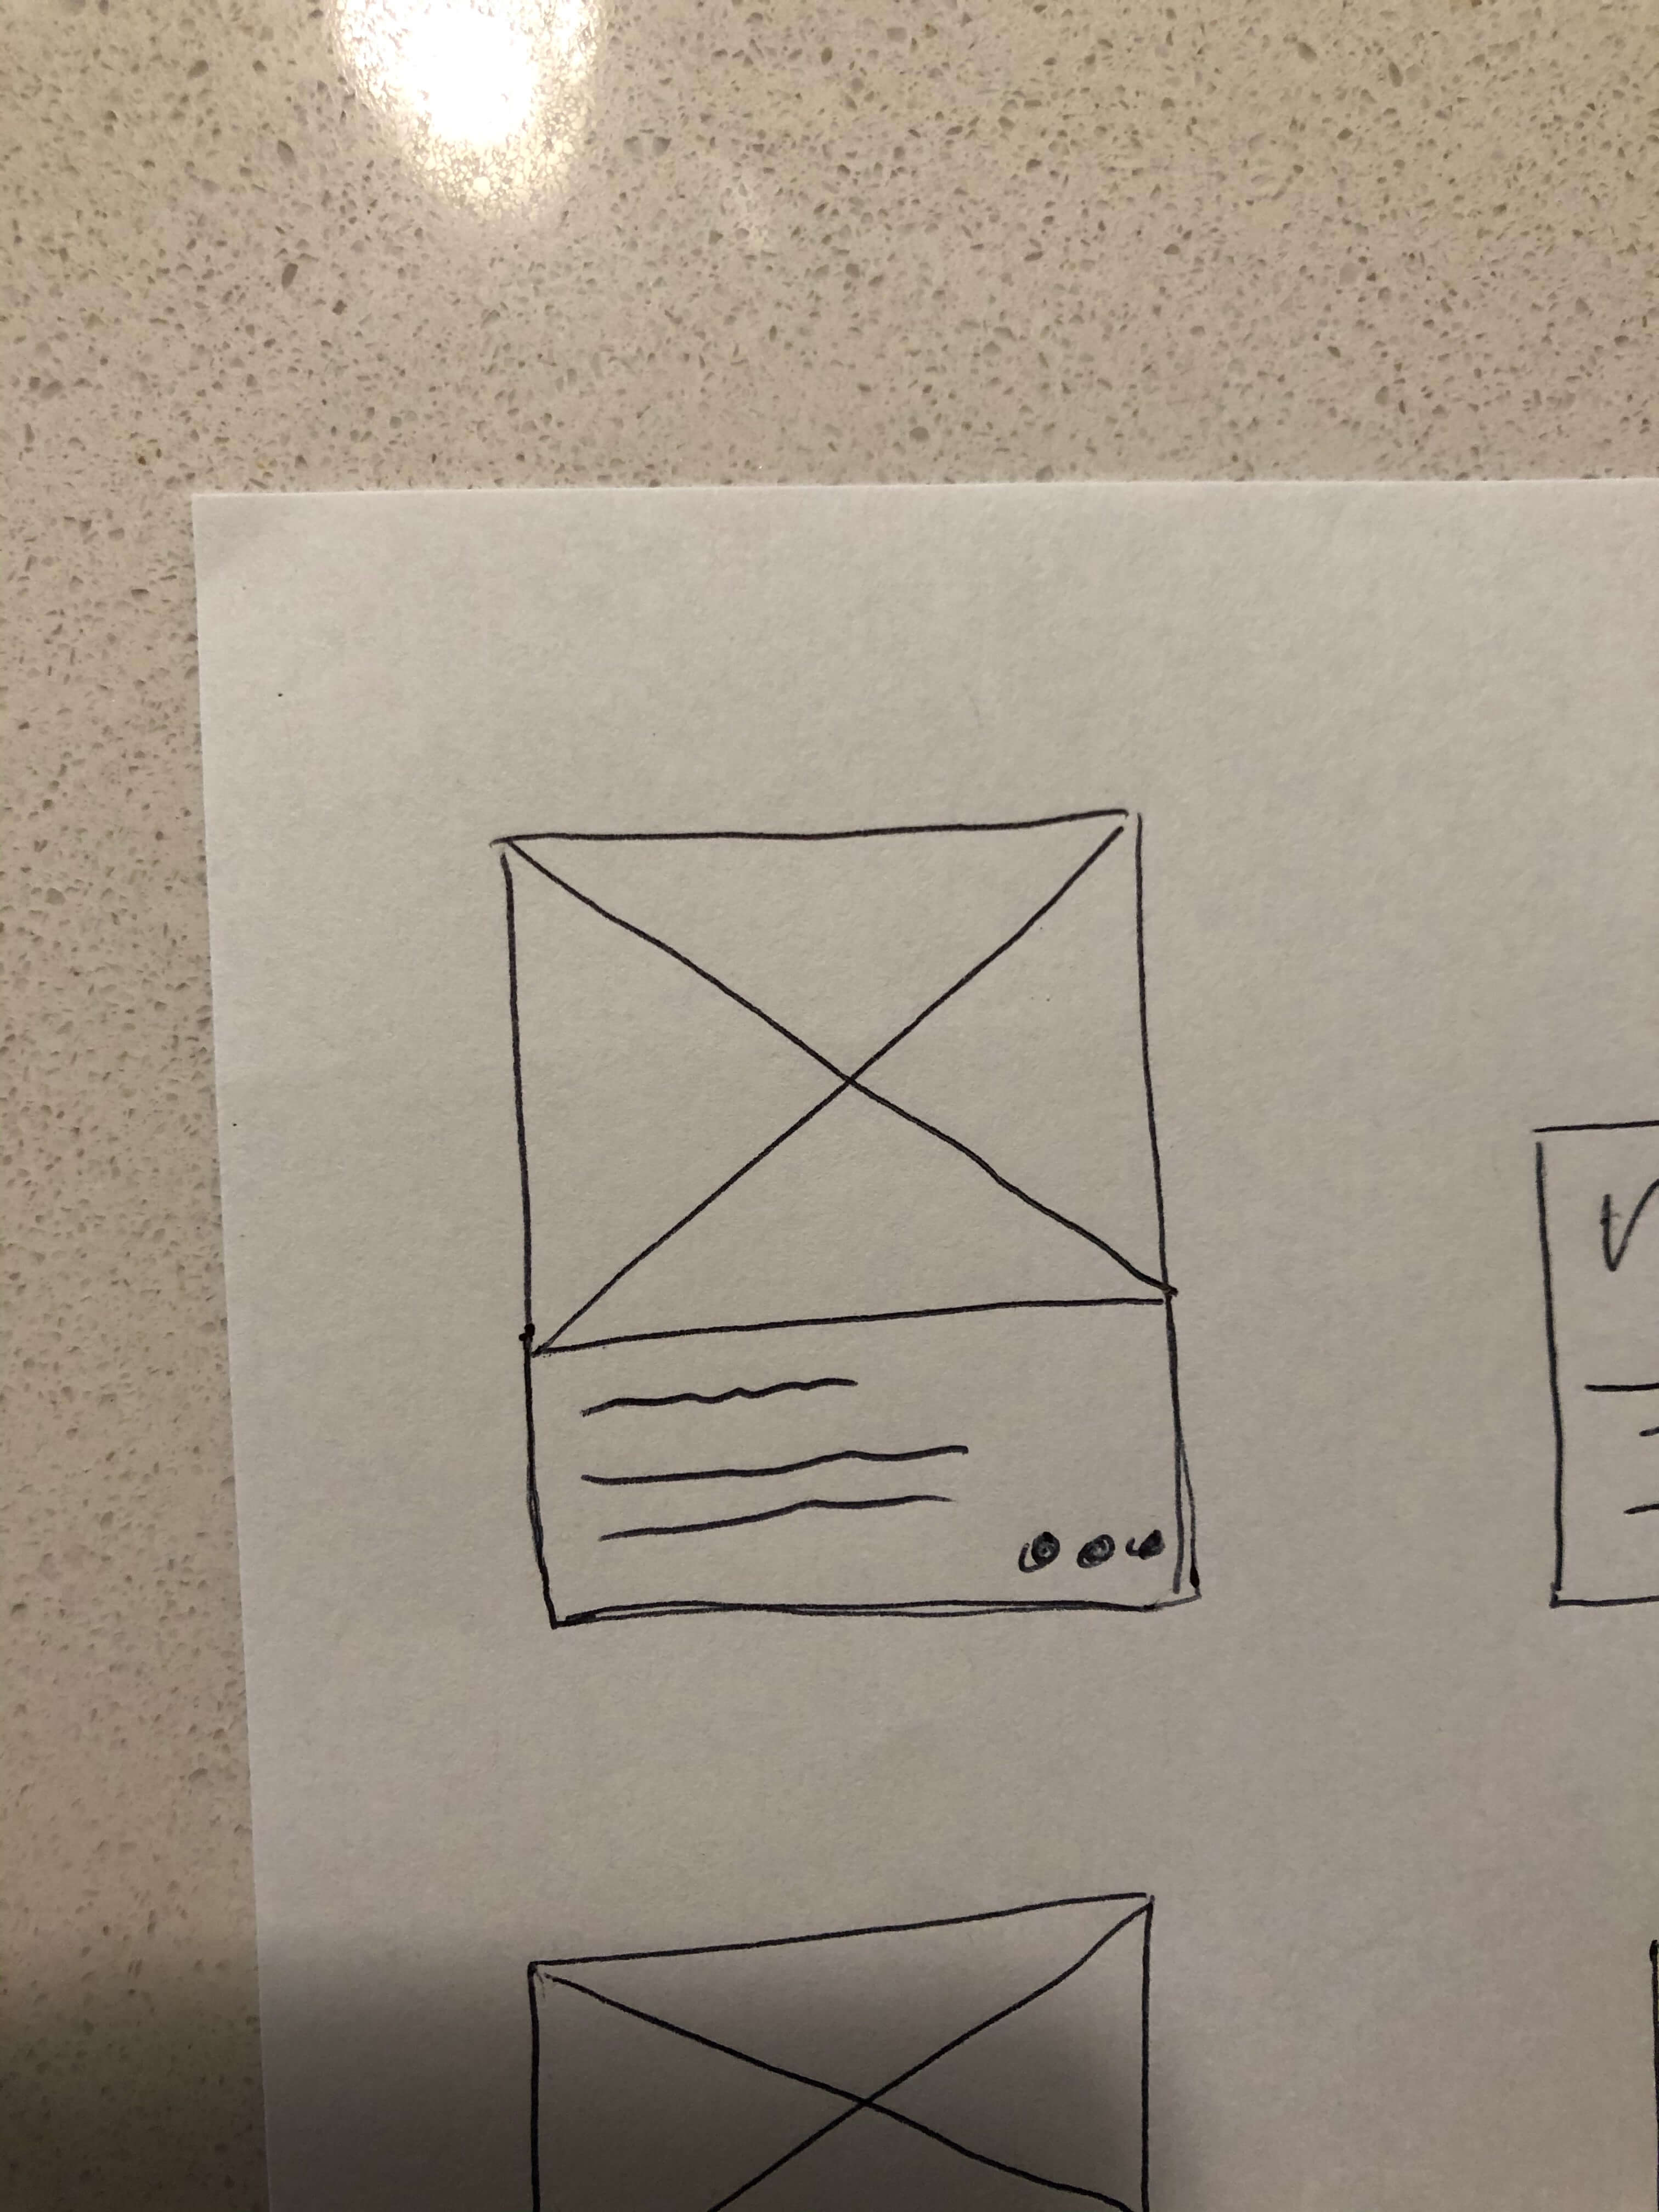card: (471, 782, 1236, 1684)
